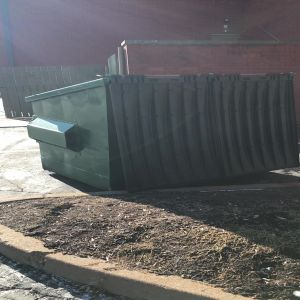Dumpster: (18, 70, 300, 192)
